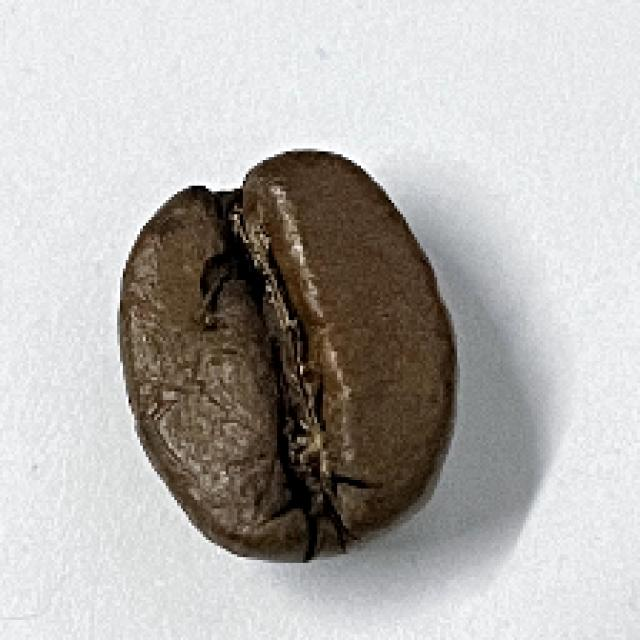bean: (113, 146, 461, 563)
